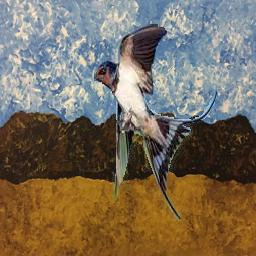Swallow: (95, 25, 218, 222)
